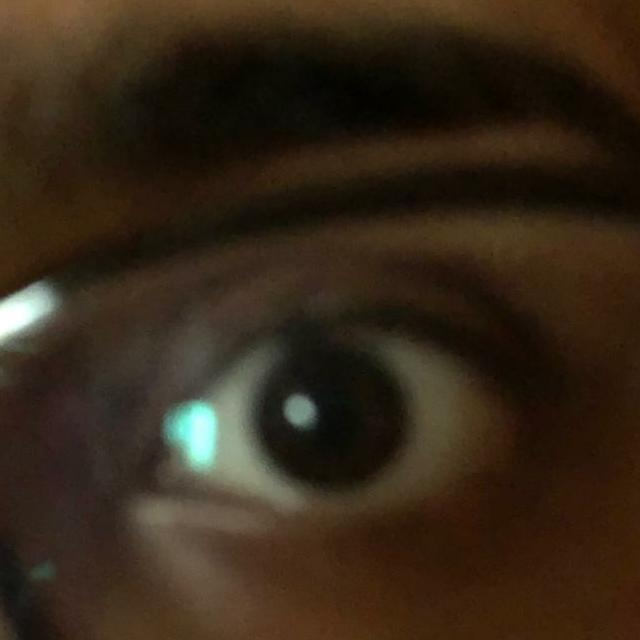eye: (171, 317, 507, 515)
iris: (252, 342, 406, 494)
